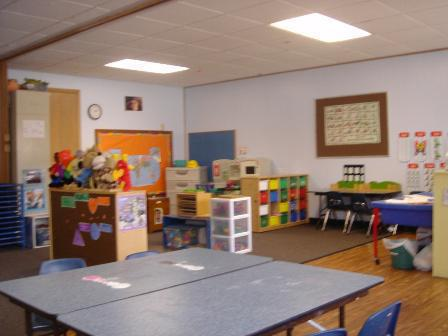Bote de Basura: (384, 236, 420, 278)
